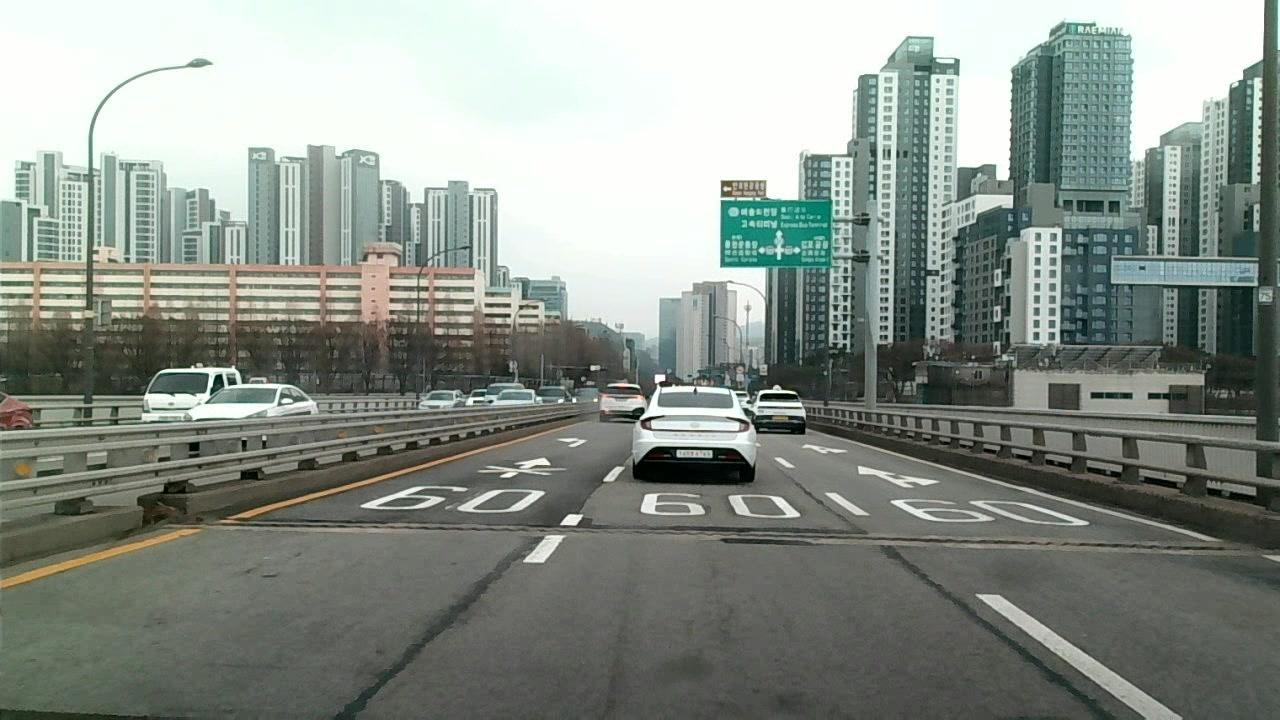hcrack: (731, 527, 1225, 553), (172, 514, 703, 536)
vcrack: (881, 547, 1097, 714), (335, 538, 536, 714), (787, 473, 858, 530)
